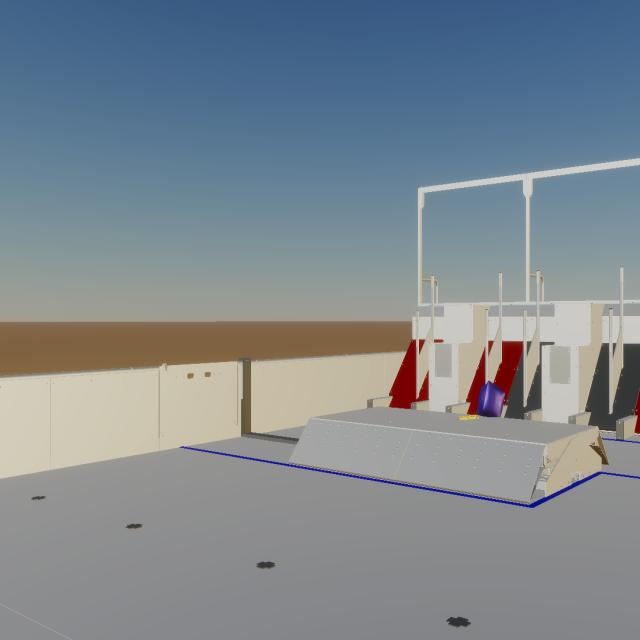frc_cone: (458, 415, 479, 420)
frc_cube: (476, 381, 505, 417)
